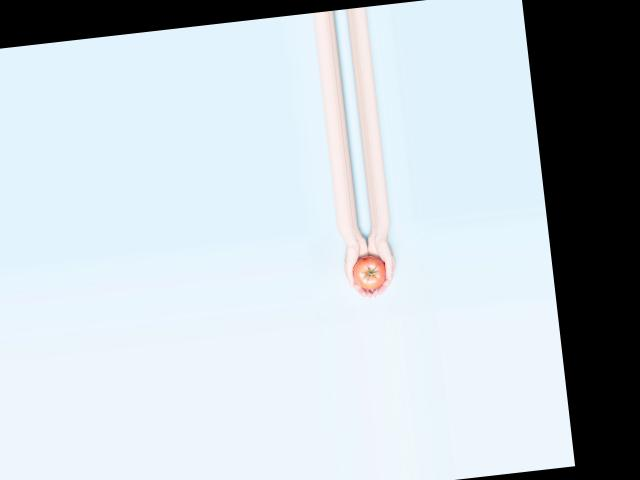tomato: (351, 253, 388, 291)
